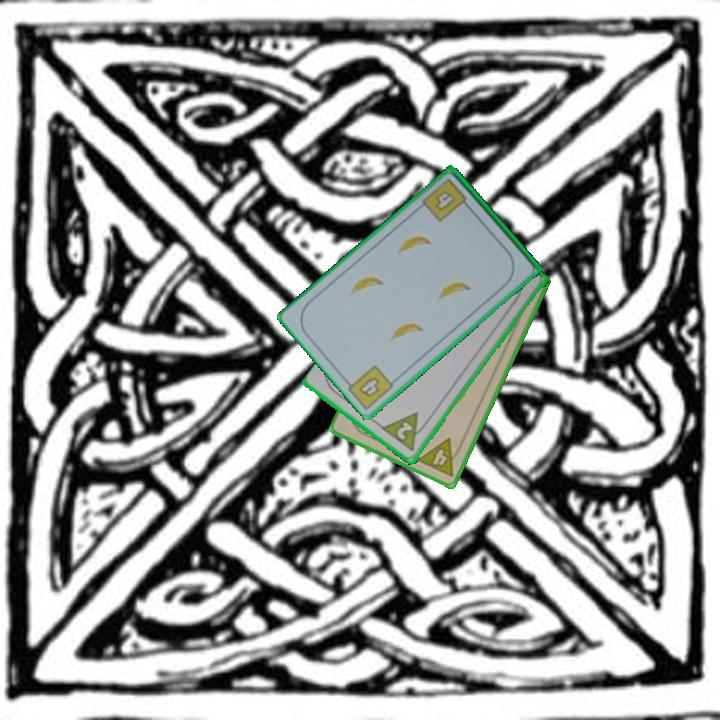2p: (379, 409, 432, 455)
4b: (419, 175, 474, 225), (355, 373, 383, 401)
4p: (414, 434, 466, 480)
